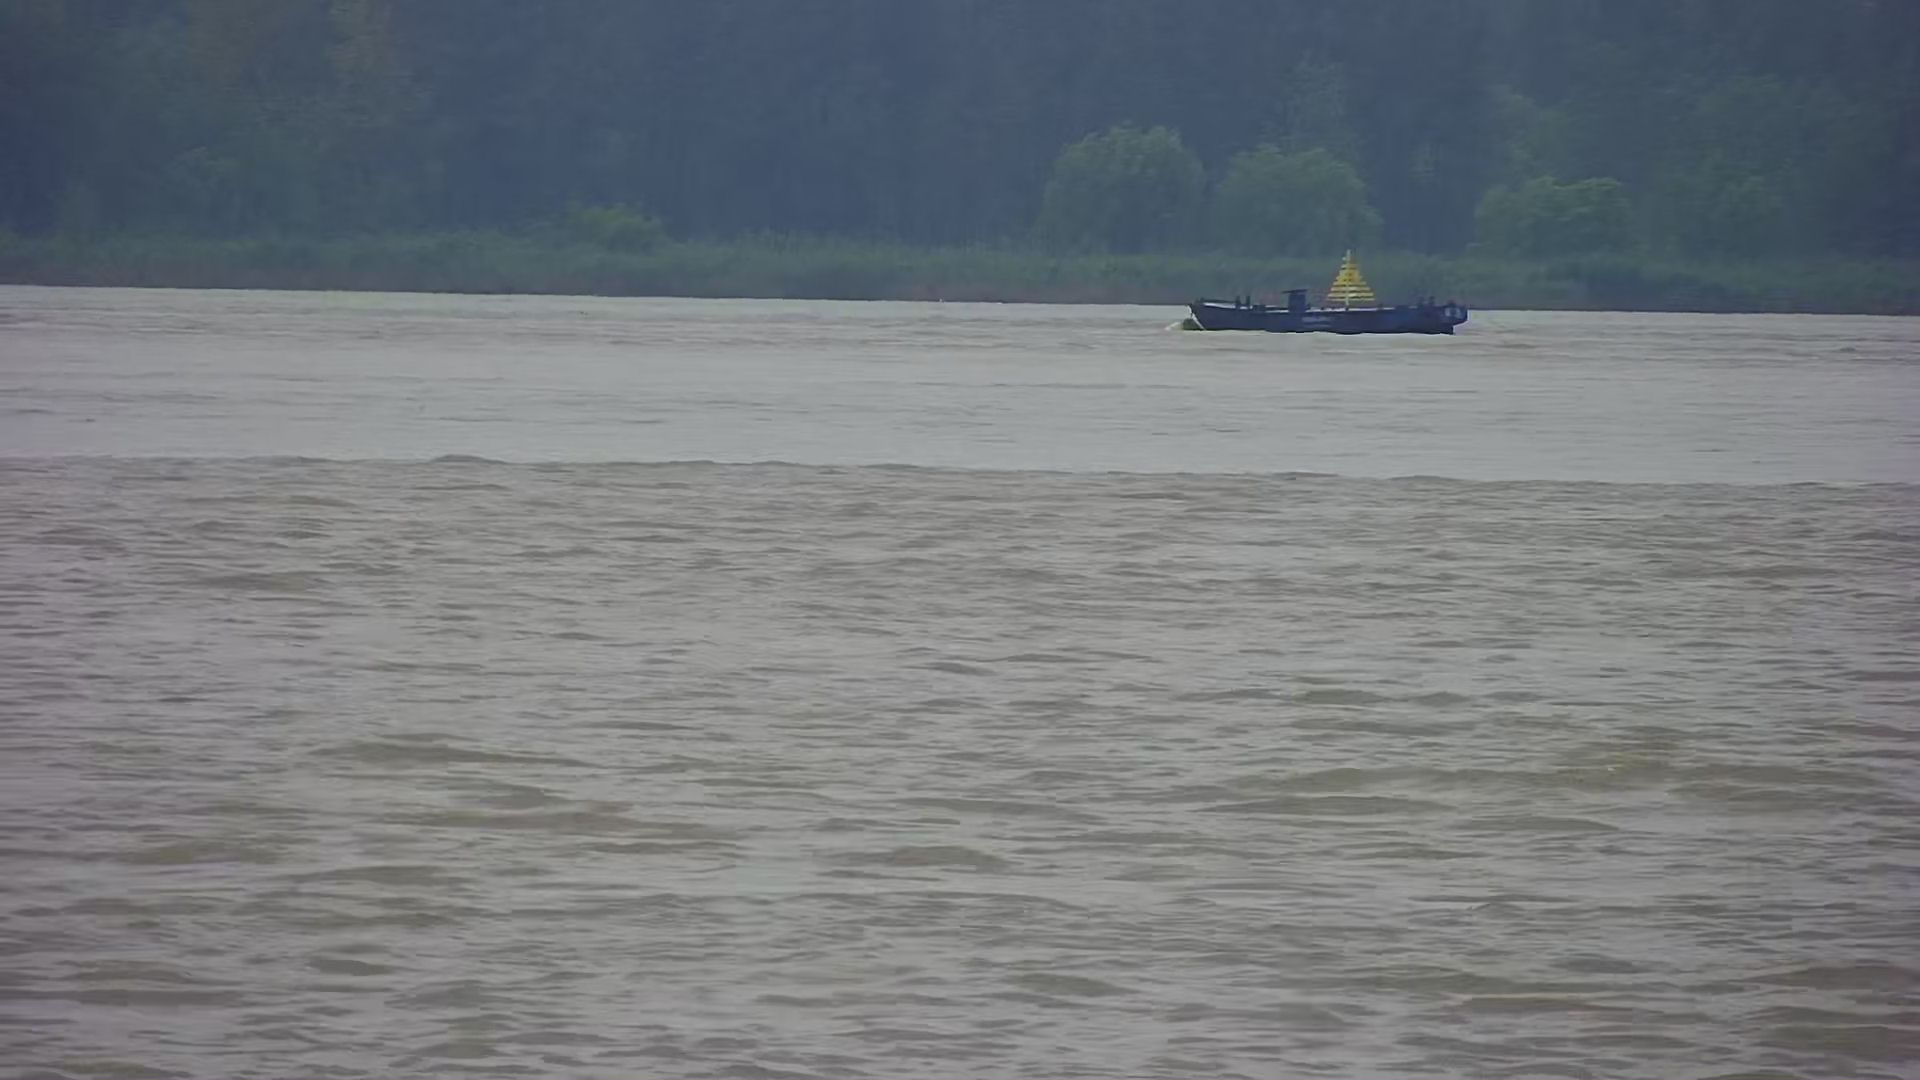boat: (1191, 237, 1466, 342)
